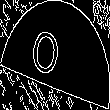O_S: (38, 24, 72, 86)
